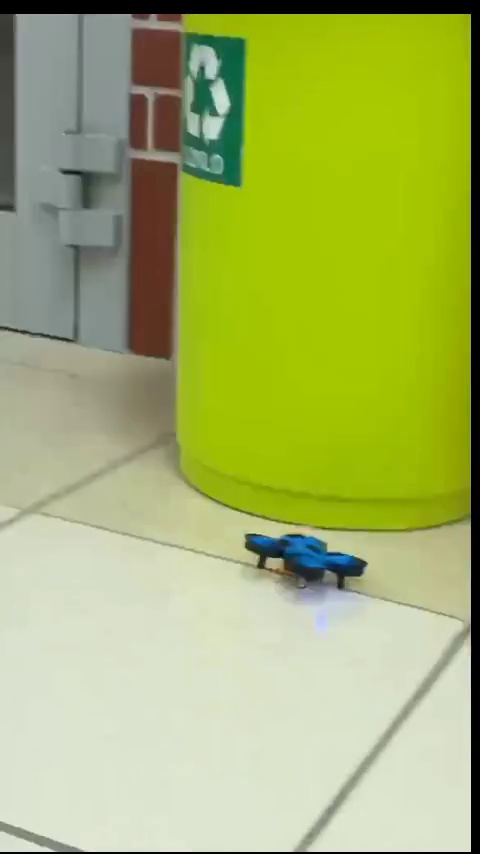drone: (241, 526, 366, 600)
